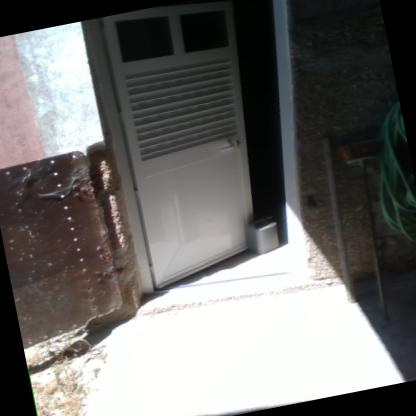semi: (76, 0, 343, 322)
